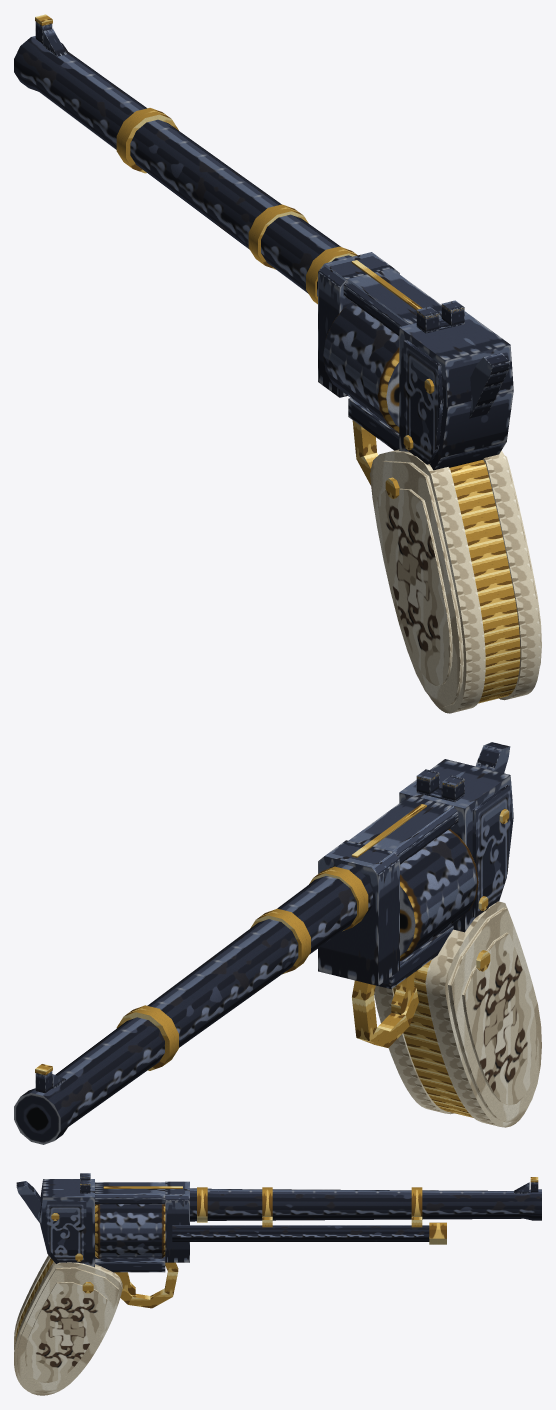
Rendered from pistol_duelist_base.glb.
3 views of the same model, one above another, from view 1: azimuth 30°, elevation 25°; view 2: azimuth 150°, elevation 25°; view 3: azimuth 270°, elevation 25° (orthographic). The views are drawn at different scales.
Visible parts, largest first — view 1: frame, magazine, hammer; view 2: frame, magazine, hammer; view 3: frame, magazine, hammer.
Part boxes in pixels (left/top/right/bottom): frame: left=14, top=14, right=541, bottom=713; magazine: left=323, top=302, right=399, bottom=432; hammer: left=469, top=353, right=510, bottom=418; frame: left=14, top=759, right=541, bottom=1144; magazine: left=400, top=829, right=478, bottom=960; hammer: left=476, top=742, right=510, bottom=773; frame: left=14, top=1173, right=541, bottom=1395; magazine: left=95, top=1204, right=165, bottom=1258; hammer: left=16, top=1181, right=41, bottom=1222.
Bounding box in the file's own units: 0.0379 × 0.1297 × 0.3.
2 materials, 2 textured.
